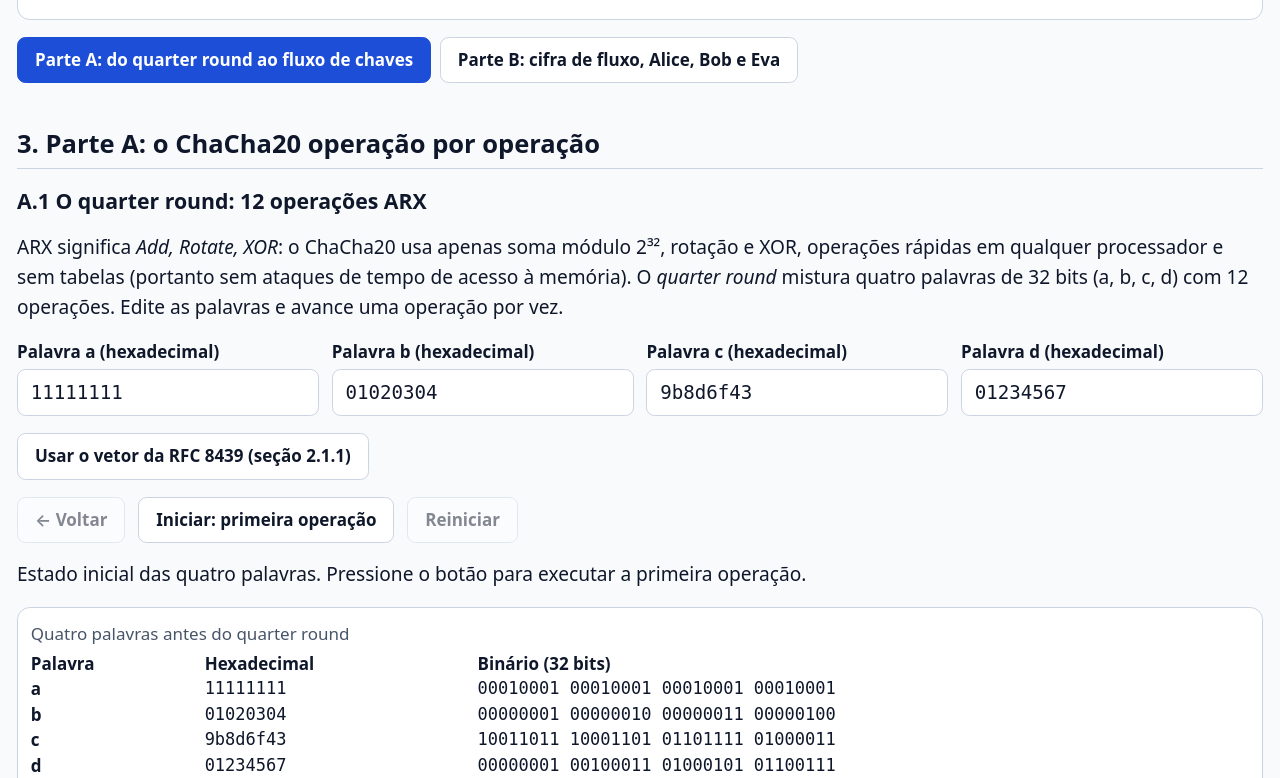
laboratório de ChaCha20 › valida as palavras do quarter round
(page scrolled)
Replace the text in the field labelled "Palavra a (hexadecimal)" with "xyz" at (168,392), box [17,369,319,416]
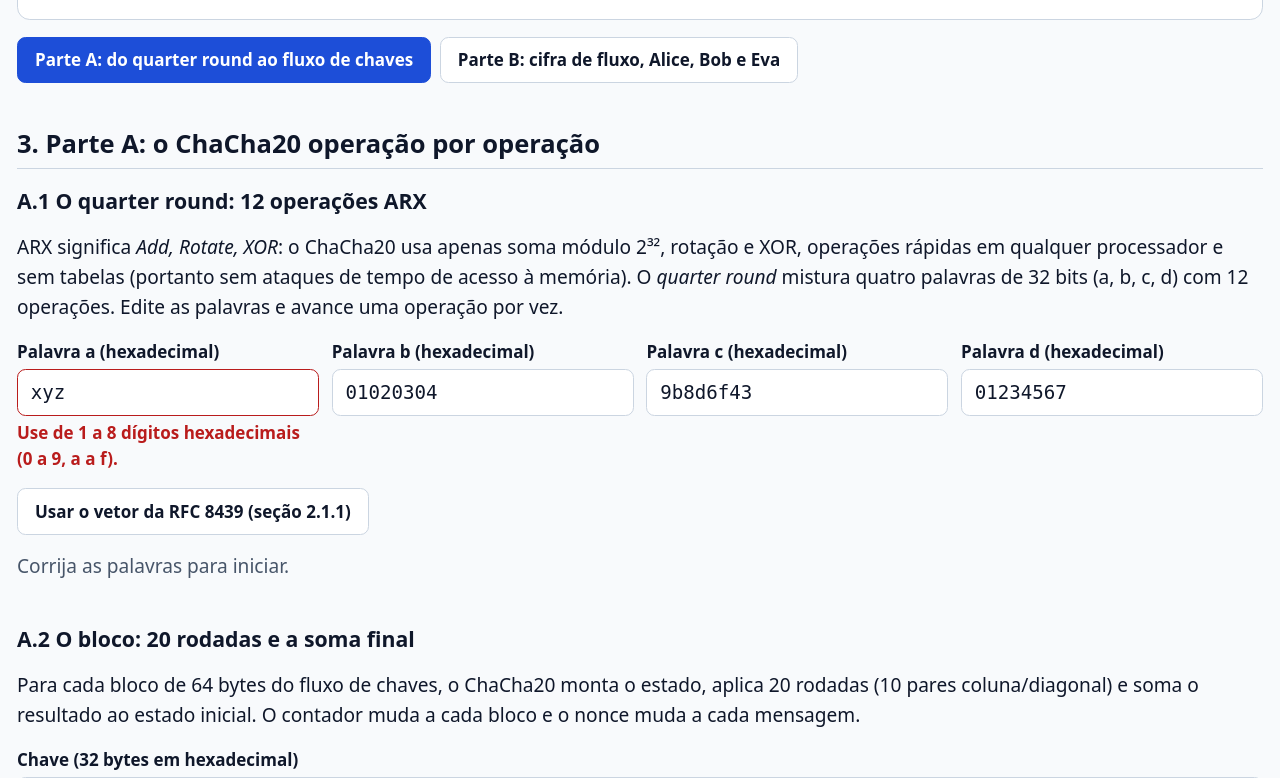
Expected: the text "Corrija as palavras para iniciar." is shown, [17,553,289,579]
